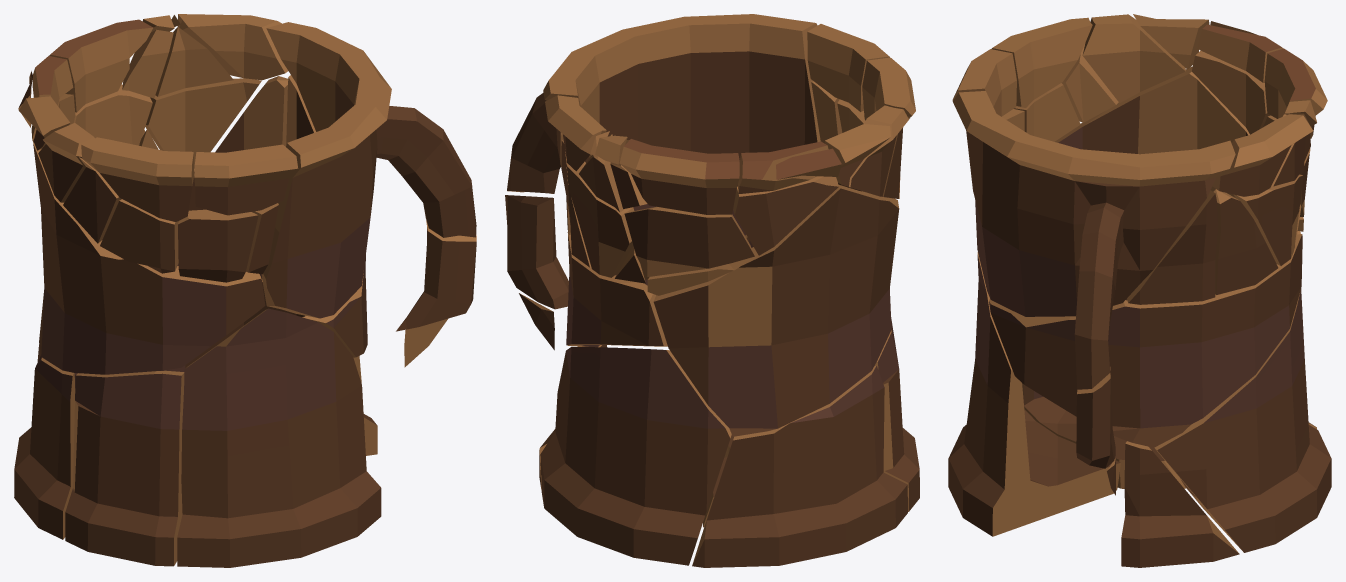
Rendered from fractured_simple_mug.glb.
The picture shows the model from 3 angles, left to right: view 1: azimuth 30°, elevation 25°; view 2: azimuth 150°, elevation 25°; view 3: azimuth 270°, elevation 25°; orthographic projection.
Parts seen in each view (by area): view 1: SimpleCup.003_cell; view 2: SimpleCup.003_cell; view 3: SimpleCup.003_cell.
Boxes of the visible parts, <box> form: SimpleCup.003_cell: <box>14,14,476,567</box>; SimpleCup.003_cell: <box>505,14,919,567</box>; SimpleCup.003_cell: <box>948,14,1331,567</box>.
Size of the model in its own units: 0.25 by 0.2307 by 0.2012.
